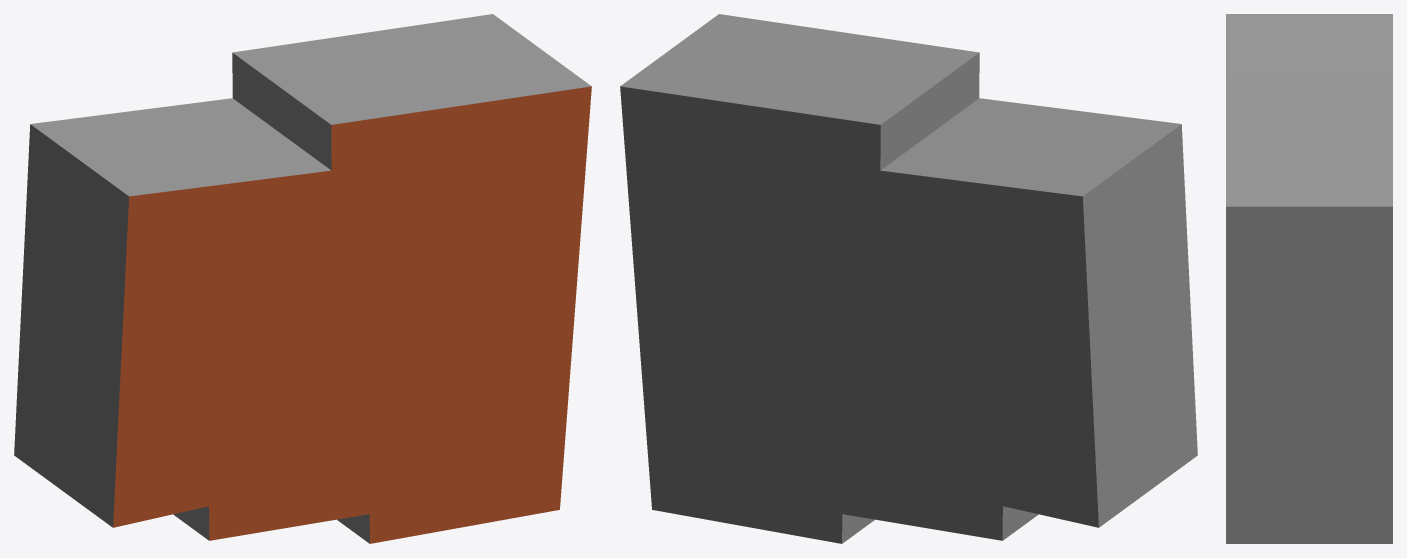
The model's file is construction_5155_assumed_A_Casa_h6m.obj.
3 renders of one model, left to right at view 1: azimuth 30°, elevation 25°; view 2: azimuth 150°, elevation 25°; view 3: azimuth 270°, elevation 25°, orthographic. The views are drawn at different scales.
Parts seen in each view (by area): view 1: construction_5155_assumed_A_Casa; view 2: construction_5155_assumed_A_Casa; view 3: construction_5155_assumed_A_Casa.
Part boxes in pixels (x1,y1,x2,y2): construction_5155_assumed_A_Casa: [14, 14, 591, 543]; construction_5155_assumed_A_Casa: [620, 14, 1197, 543]; construction_5155_assumed_A_Casa: [1226, 14, 1392, 543].
Bounding box in the file's own units: 16.77 × 14.74 × 6.
